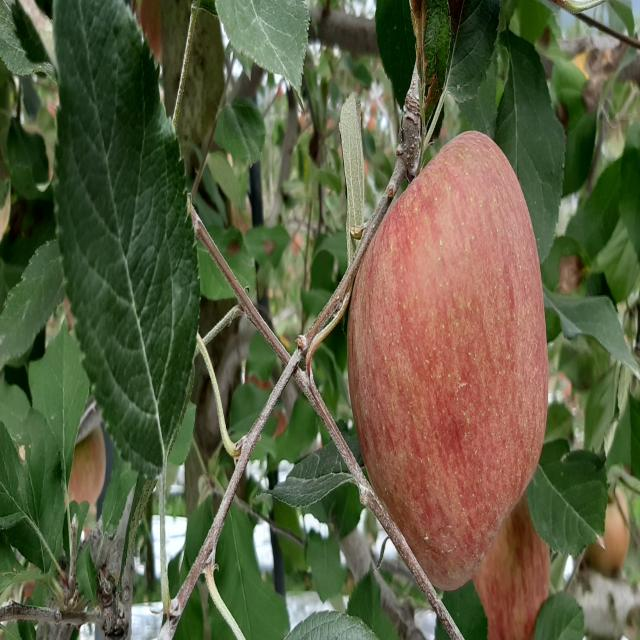fresh: (343, 124, 557, 599)
